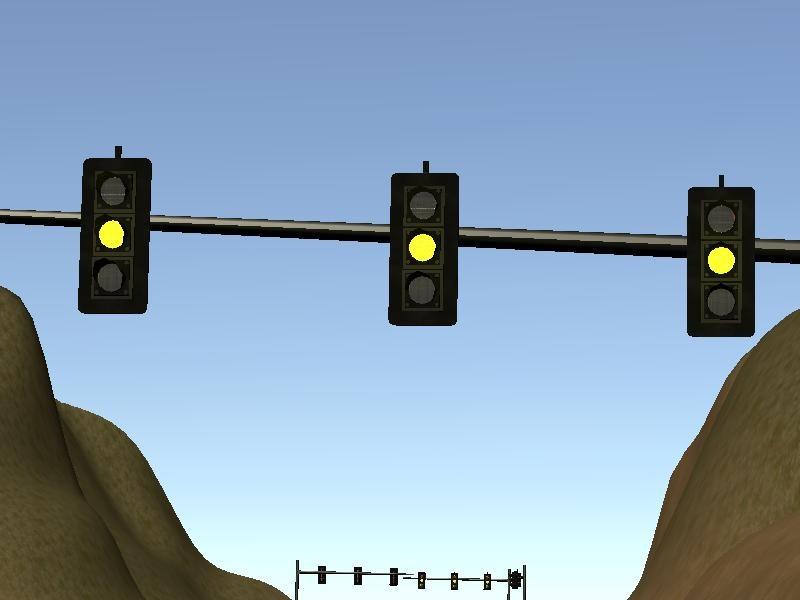YELLOW: (75, 155, 152, 314), (384, 169, 461, 328), (682, 185, 760, 340)
